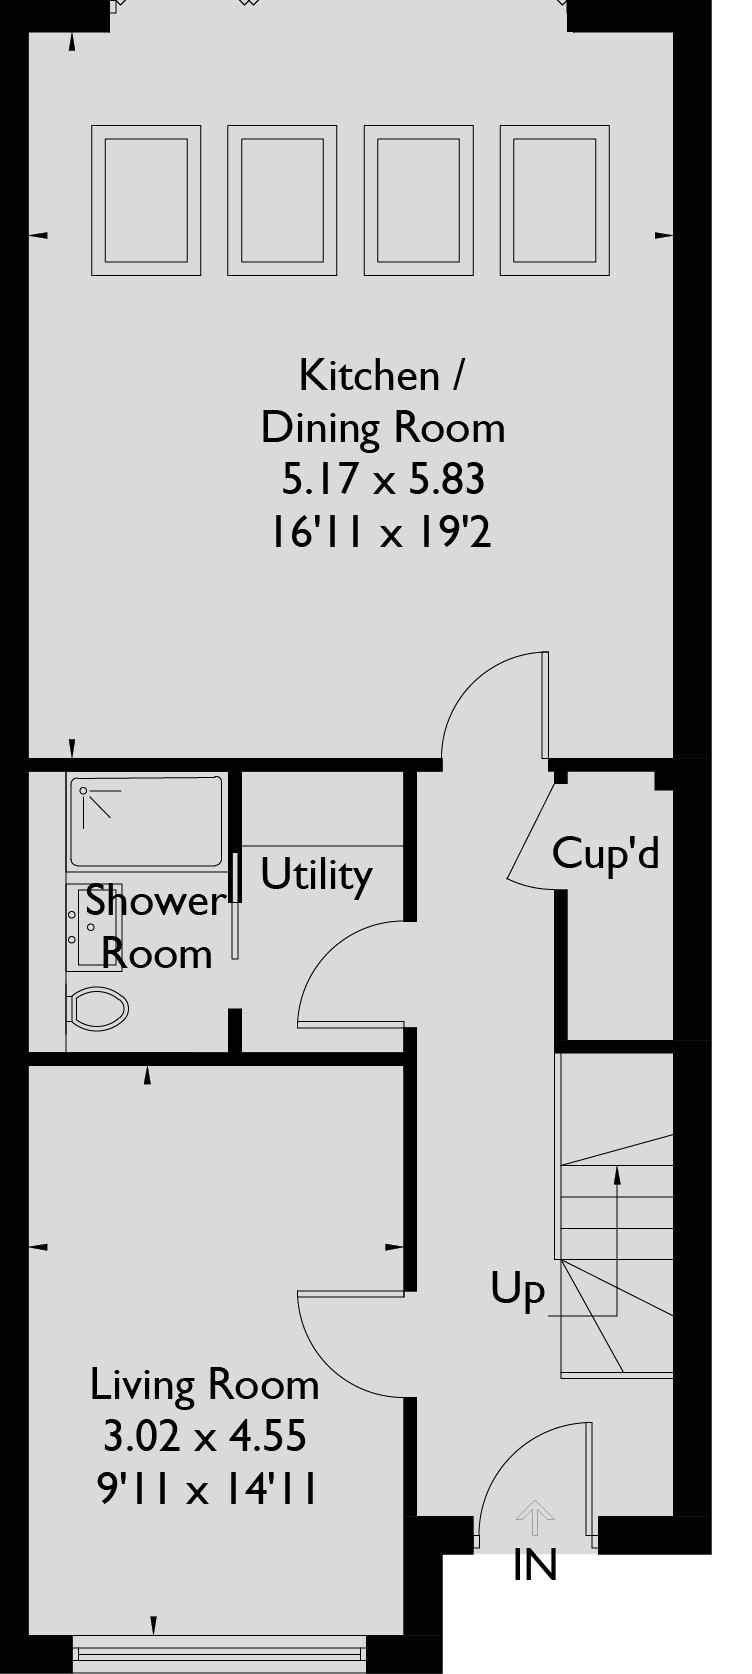room: (1, 1, 712, 773), (6, 1057, 443, 1674), (1, 758, 246, 1067), (229, 755, 420, 1070)
